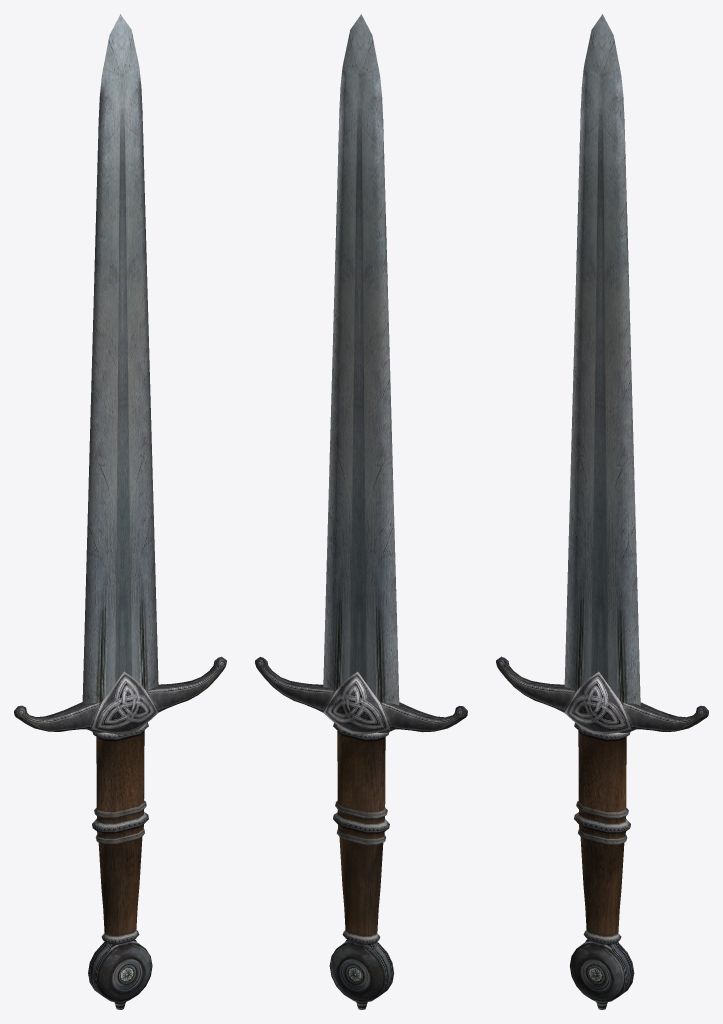
File: w_shortsword.glb
3 renders of one model, left to right at view 1: azimuth 30°, elevation 25°; view 2: azimuth 150°, elevation 25°; view 3: azimuth 330°, elevation 25°, orthographic.
Parts seen in each view (by area): view 1: shortsword:0; view 2: shortsword:0; view 3: shortsword:0.
Part boxes in pixels (x1,y1,x2,y2): shortsword:0: (14, 14, 226, 1009); shortsword:0: (255, 14, 467, 1009); shortsword:0: (496, 14, 708, 1009).
Size of the model in its own units: 11.75 by 52.52 by 1.94.
1 material, 1 textured.
